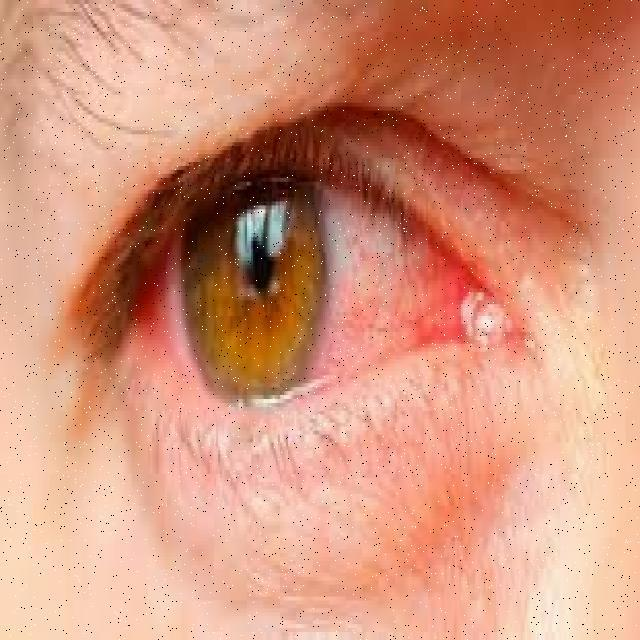Conjunctivitis: (130, 190, 520, 404)
